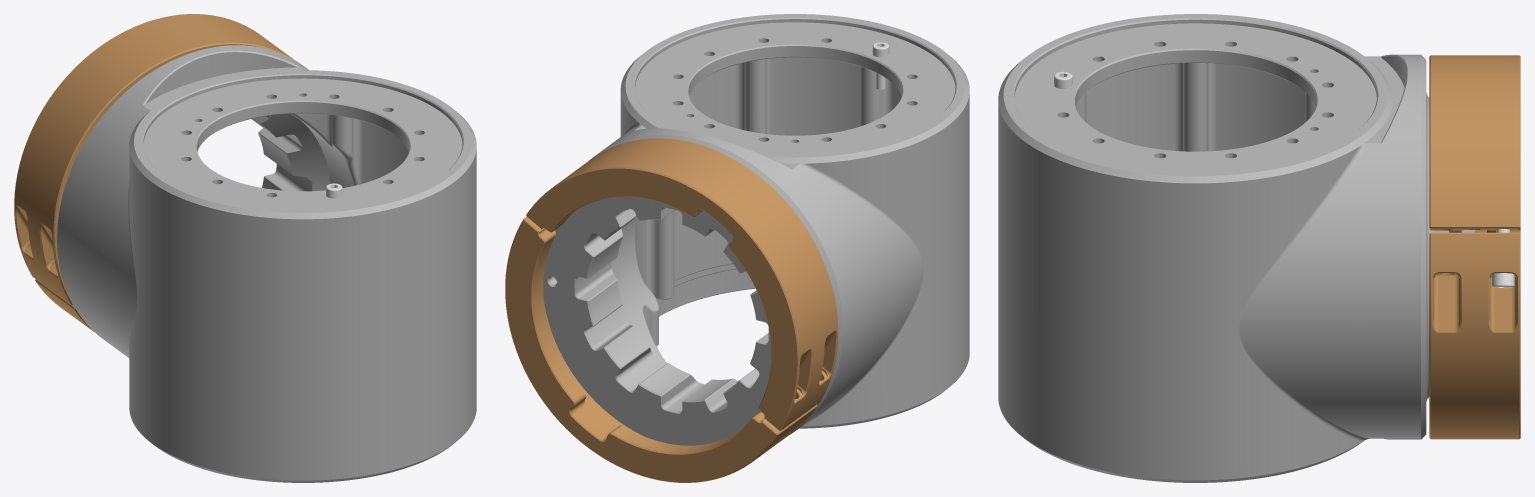
3 views of the same model, side by side, from view 1: azimuth 30°, elevation 25°; view 2: azimuth 150°, elevation 25°; view 3: azimuth 270°, elevation 25° (orthographic). The views are drawn at different scales.
Visible parts, largest first — view 1: left_arm_link1_high; view 2: left_arm_link1_high; view 3: left_arm_link1_high.
Part boxes in pixels (x1=…): left_arm_link1_high: x1=14, y1=14, x2=476, y2=482; left_arm_link1_high: x1=505, y1=14, x2=969, y2=482; left_arm_link1_high: x1=998, y1=14, x2=1520, y2=482.
Bounding box in the file's own units: 0.147 × 0.1434 × 0.1945.
